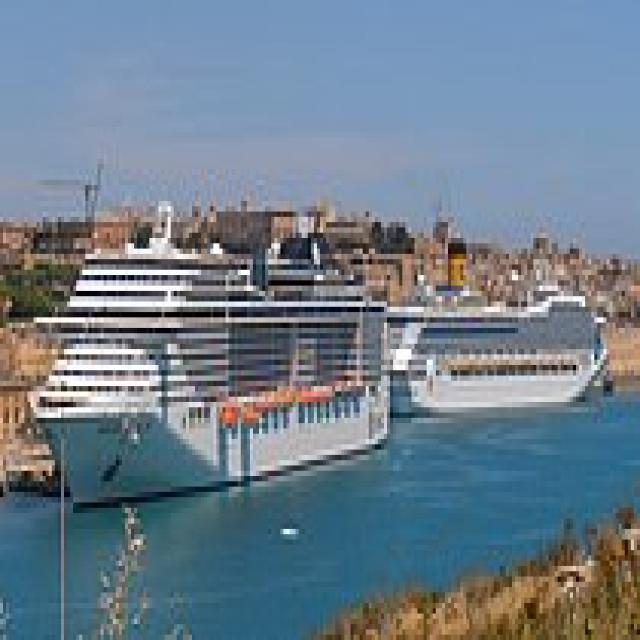Ship: (38, 207, 403, 514), (382, 276, 623, 424)
